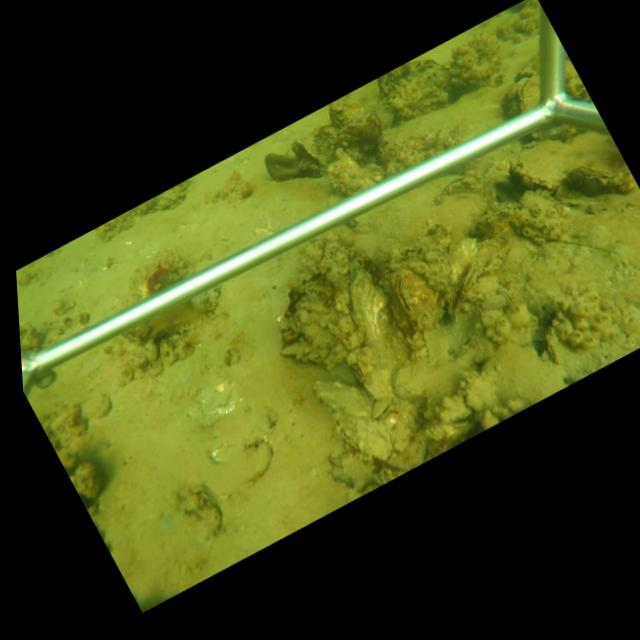Oyster-Closed: (309, 377, 429, 474), (346, 261, 411, 401), (394, 267, 447, 333), (396, 242, 458, 294)
